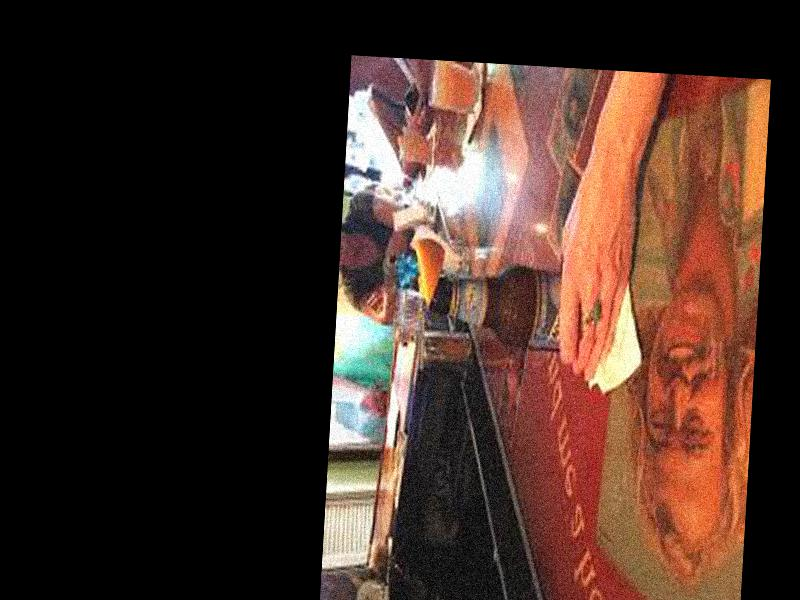Beer: (423, 266, 617, 358)
